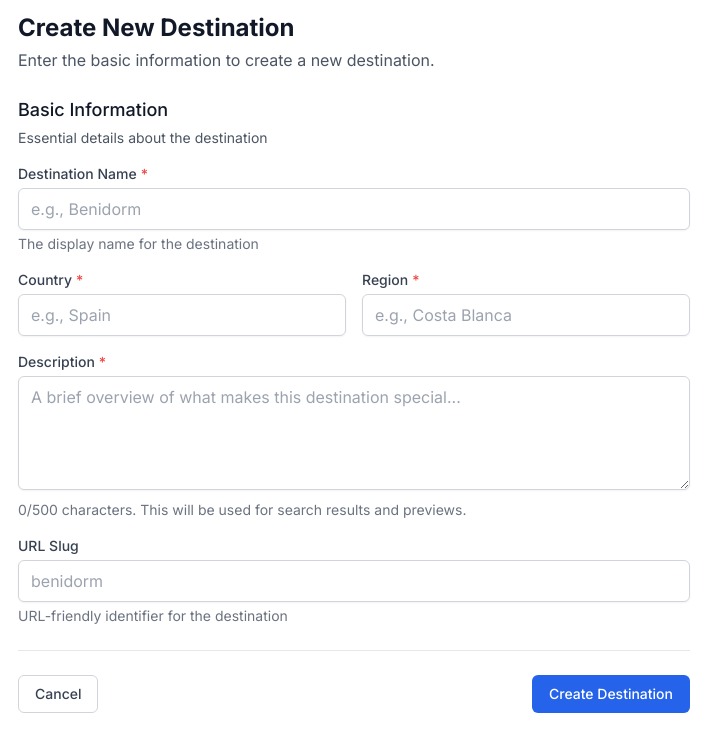
Test: DestinationForm › Form Validation › validates minimum length for name
Type "A" into the field labelled "Destination Name*".
click(354, 209); type("A")  # box [18,188,690,230]
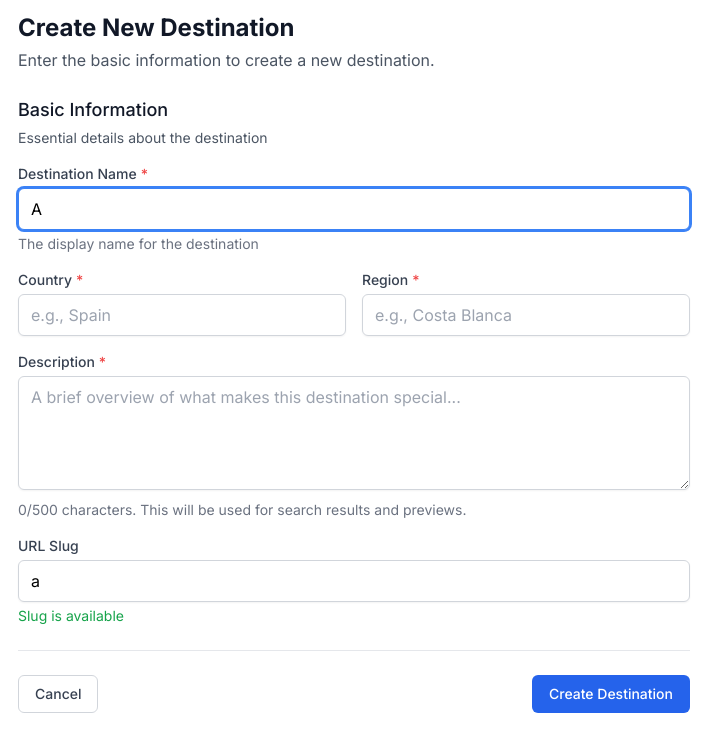
Press Tab
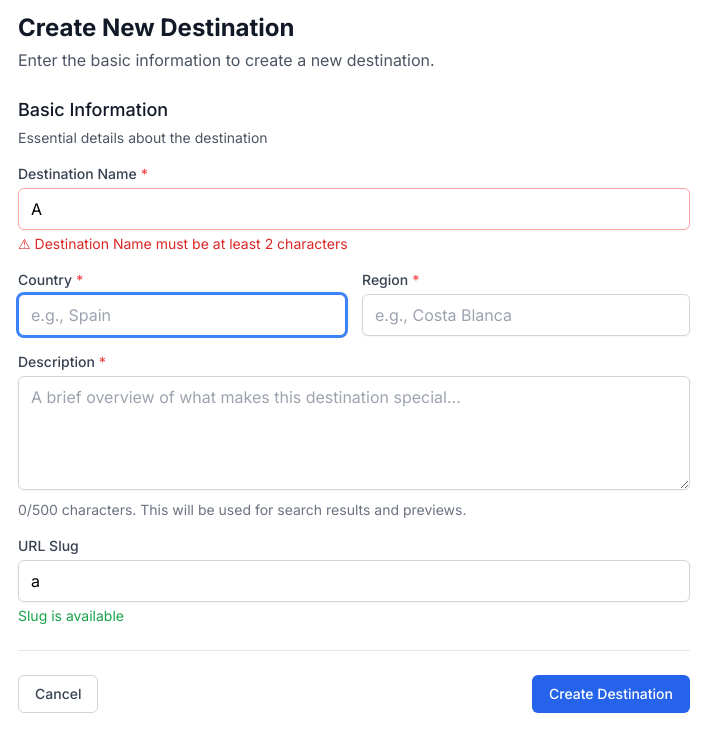
Check: the text "⚠ Destination Name must be at least 2 characters" is shown, box [18,235,348,252]
